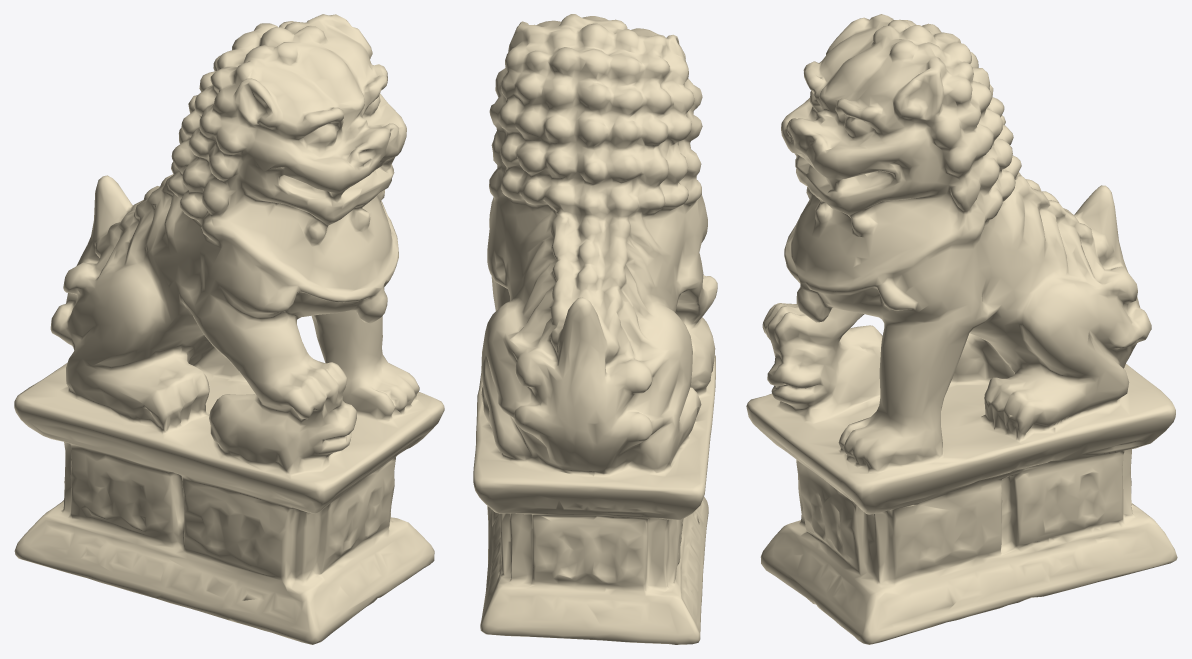
File: yuxi.glb
3 renders of one model, left to right at view 1: azimuth 30°, elevation 25°; view 2: azimuth 150°, elevation 25°; view 3: azimuth 270°, elevation 25°, orthographic. The views are drawn at different scales.
Parts seen in each view (by area): view 1: guardian-lion-scan; view 2: guardian-lion-scan; view 3: guardian-lion-scan.
Boxes of the visible parts, x1,y1,x2,y2 form: guardian-lion-scan: (14,14,444,644); guardian-lion-scan: (473,14,717,644); guardian-lion-scan: (746,14,1177,644).
Bounding box in the file's own units: 0.6189 × 1 × 0.6989.
